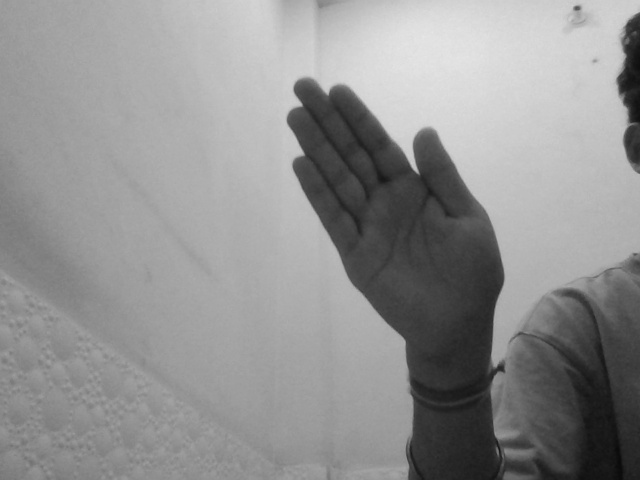Hello: (285, 77, 509, 360)
